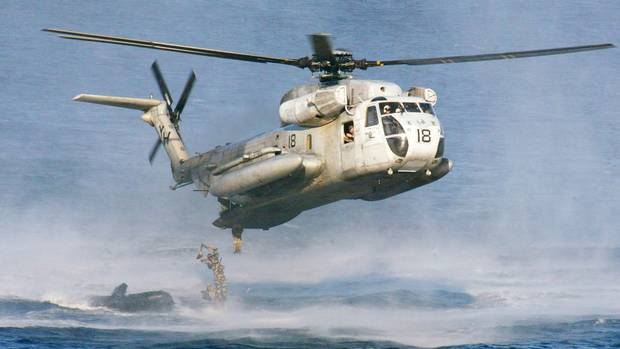MilitaryHelicopter: (77, 57, 473, 228)
